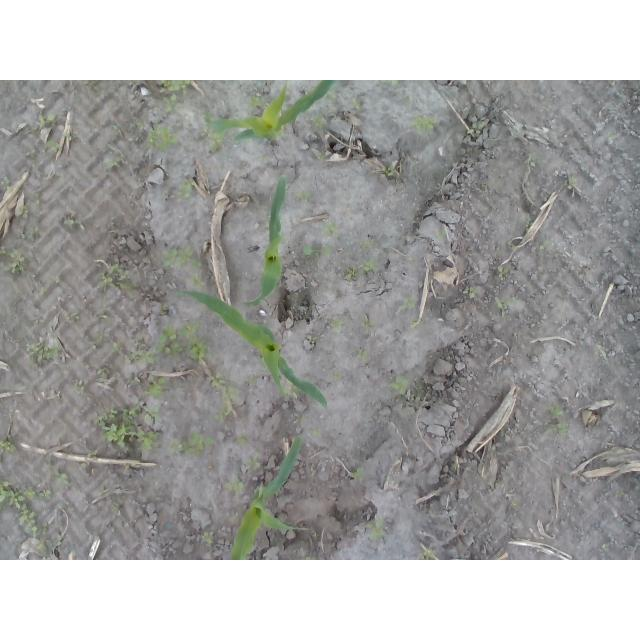Maize: (173, 288, 327, 408), (229, 436, 308, 560), (203, 81, 335, 148), (242, 176, 290, 309)
Weeds: (95, 399, 161, 450), (0, 478, 52, 538), (155, 323, 217, 366), (208, 373, 242, 424), (95, 264, 137, 297), (168, 431, 216, 457), (163, 245, 210, 271), (0, 245, 32, 280), (125, 335, 159, 366), (26, 339, 63, 367), (145, 125, 176, 152), (345, 259, 380, 282), (407, 113, 438, 136), (222, 471, 246, 497), (31, 112, 57, 136), (389, 373, 411, 399), (365, 518, 387, 541), (145, 375, 166, 397), (175, 177, 194, 201), (102, 153, 125, 172), (303, 243, 334, 257), (317, 221, 339, 240), (466, 117, 488, 135), (159, 80, 192, 92), (360, 313, 376, 337), (208, 128, 224, 152), (495, 295, 514, 315), (284, 377, 302, 397), (399, 294, 417, 313), (52, 469, 69, 489), (546, 424, 571, 437), (325, 83, 343, 101), (88, 333, 105, 352), (72, 383, 89, 401), (98, 309, 114, 328), (0, 437, 16, 455), (248, 448, 261, 470), (164, 94, 177, 115), (192, 275, 209, 291), (535, 239, 553, 254), (543, 403, 562, 417), (528, 150, 544, 166), (247, 95, 264, 110), (95, 367, 110, 384), (45, 137, 60, 153), (327, 319, 345, 332), (125, 374, 143, 387), (38, 542, 50, 560), (351, 466, 366, 480), (355, 347, 369, 362), (234, 433, 249, 447), (63, 218, 82, 229), (350, 96, 362, 113), (313, 113, 325, 130), (202, 529, 215, 544), (0, 176, 12, 192), (63, 311, 82, 321), (463, 287, 480, 298), (498, 266, 510, 281), (295, 191, 313, 201), (409, 319, 425, 330), (382, 163, 394, 177), (434, 228, 447, 240), (307, 335, 318, 349), (201, 111, 215, 122), (31, 226, 42, 240), (111, 340, 122, 354), (524, 217, 534, 232), (34, 192, 43, 208), (422, 547, 434, 559), (360, 240, 371, 253), (20, 205, 30, 219), (416, 384, 424, 401), (311, 426, 321, 439), (566, 176, 575, 190), (599, 543, 610, 553), (110, 503, 120, 514), (87, 449, 97, 460), (383, 80, 401, 86), (607, 132, 617, 141), (248, 375, 257, 385), (40, 287, 49, 297), (491, 445, 498, 457), (335, 372, 343, 380), (240, 287, 249, 294), (304, 556, 316, 561), (319, 150, 325, 160), (511, 500, 517, 509)
